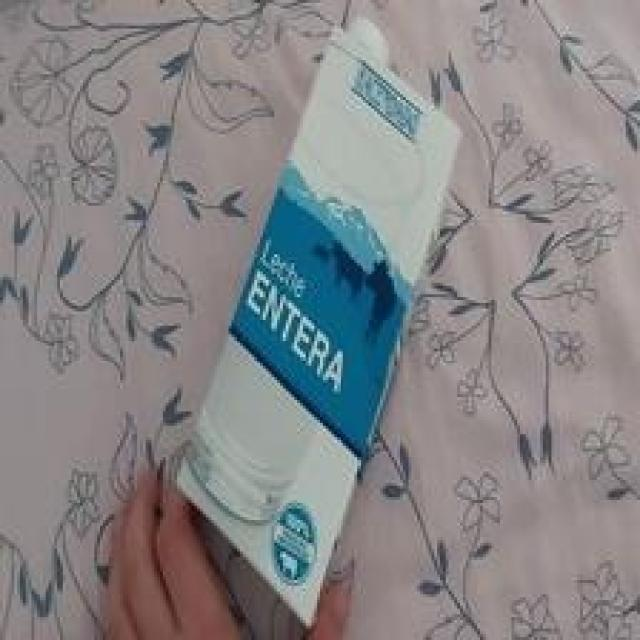PaperCardboard: (168, 16, 468, 622)
